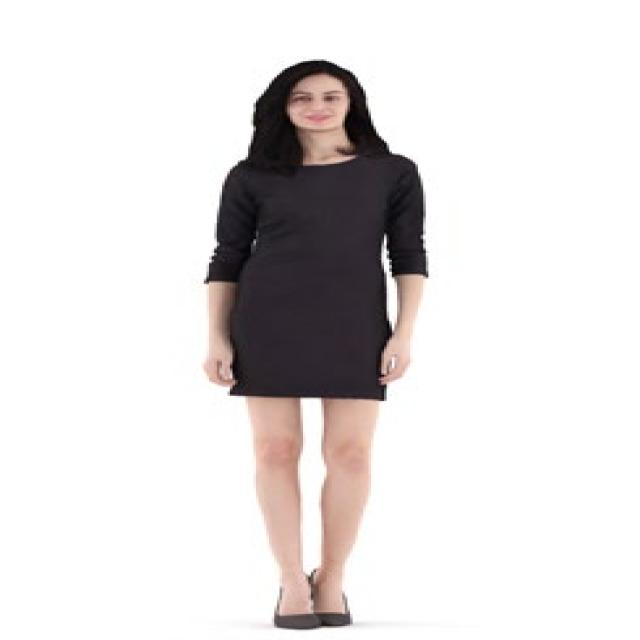standing: (201, 57, 429, 634)
